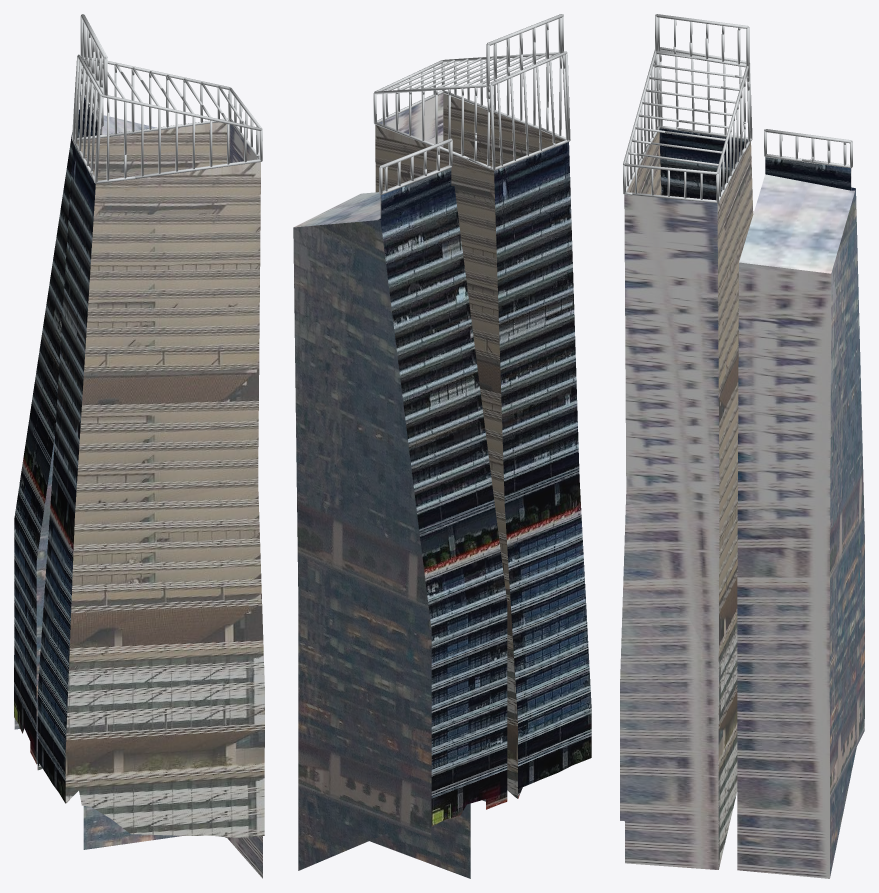
3 views of the same model, side by side, from view 1: azimuth 30°, elevation 25°; view 2: azimuth 150°, elevation 25°; view 3: azimuth 270°, elevation 25° (orthographic). The views are drawn at different scales.
Visible parts, largest first — view 1: geometry_0, geometry_1; view 2: geometry_0, geometry_1; view 3: geometry_0, geometry_1.
Boxes of the visible parts, box(x1,y1,x2,y2) form: geometry_0: box(14, 92, 264, 878); geometry_1: box(72, 14, 262, 183); geometry_0: box(293, 93, 591, 878); geometry_1: box(373, 14, 570, 194); geometry_0: box(620, 128, 864, 878); geometry_1: box(623, 14, 852, 202).
Bounding box in the file's own units: 58.31 × 220 × 62.14.
Materials: 2 (1 with a texture image).
